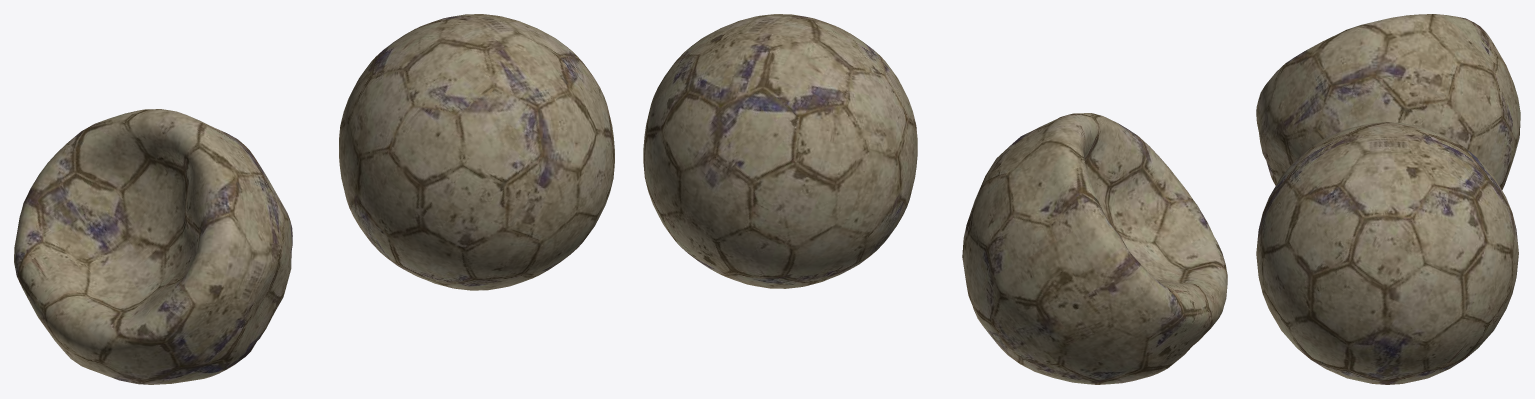
3 renders of one model, left to right at view 1: azimuth 30°, elevation 25°; view 2: azimuth 150°, elevation 25°; view 3: azimuth 270°, elevation 25°, orthographic. The views are drawn at different scales.
Visible parts, largest first — view 1: football_inflated, football_deflated; view 2: football_inflated, football_deflated; view 3: football_inflated, football_deflated.
Part boxes in pixels (x1=…): football_inflated: x1=339, y1=14, x2=614, y2=290; football_deflated: x1=14, y1=109, x2=292, y2=384; football_inflated: x1=643, y1=14, x2=917, y2=288; football_deflated: x1=962, y1=113, x2=1227, y2=384; football_inflated: x1=1256, y1=122, x2=1518, y2=384; football_deflated: x1=1256, y1=14, x2=1520, y2=189.
Bounding box in the file's own units: 0.5089 × 0.2219 × 0.2222.
1 material, 1 textured.
